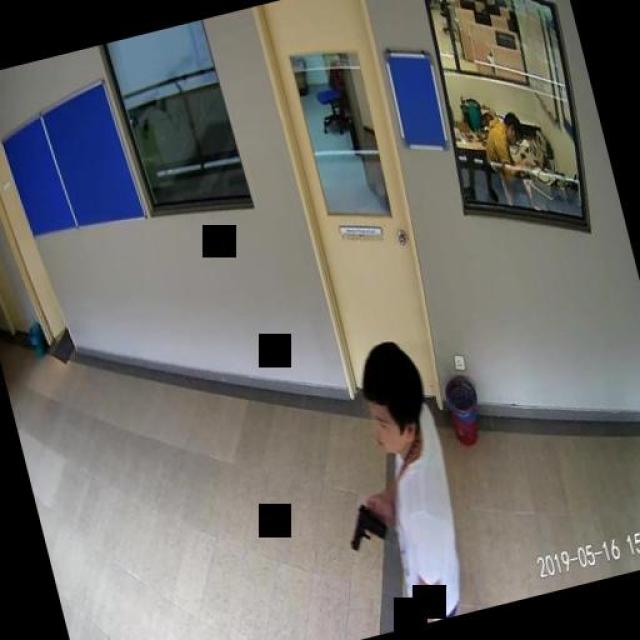gun: (341, 499, 389, 550)
